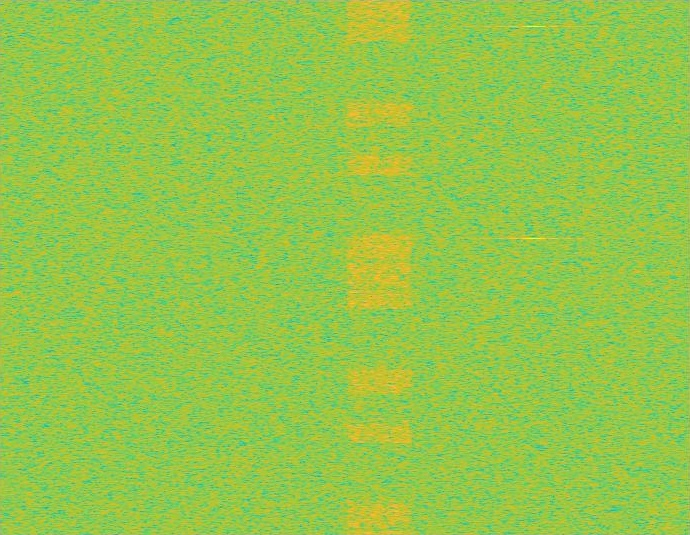LTE: (345, 0, 414, 534)
Radar: (527, 0, 541, 534)
